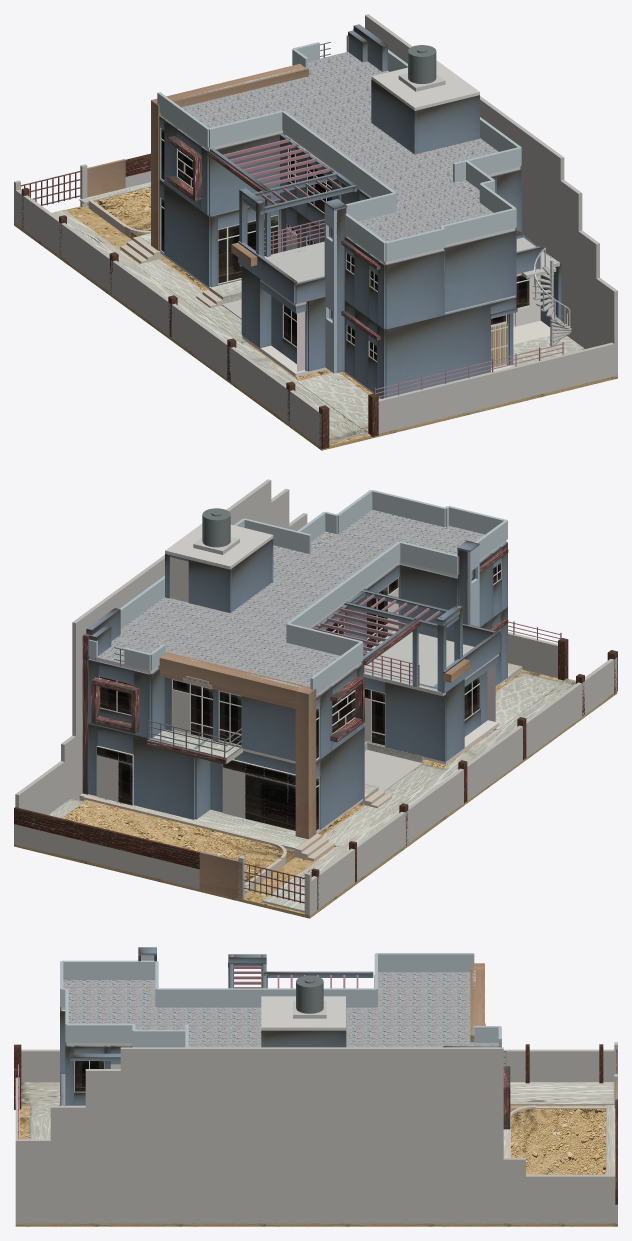
Rendered from rajsee-villa.glb.
3 renders of one model, top to bottom at view 1: azimuth 30°, elevation 25°; view 2: azimuth 150°, elevation 25°; view 3: azimuth 270°, elevation 25°, orthographic. The views are drawn at different scales.
Visible parts, largest first — view 1: Side compound wall, Neighbour boundary wall (×6), Rear solid exterior wall (×2), Rear compound wall, Roof slab 1, Rear upper bedroom face, Roof slab around openings - middle (×2), Paved side driveway, Dining side wall, Rooftop room back wall, Master wall toward court, Roof slab 2 (+35 smaller); view 2: Side compound wall, Front drawing wall (×3), Front garden soil, Roof slab 1, Neighbour boundary wall (×4), Bedroom court wall, Front unfinished wall base, Paved side driveway, Roof slab around openings - middle (×2), Front stone surround top, Front unfinished brickwork, Roof slab 2 (+48 smaller); view 3: Neighbour boundary wall (×19), Roof terrace parapet (approximate) (×13), Roof slab 1, Front garden soil, Side compound wall, Paved side driveway, Roof slab around openings - middle, Roof slab 4, Rooftop room roof, Roof slab 4 at rear return, Rooftop room side wall, Roof slab around openings - front (+11 smaller).
Boxes of the visible parts, x1=… form: Side compound wall: x1=15, y1=189, x2=321, y2=447; Neighbour boundary wall (×6): x1=507, y1=118, x2=617, y2=376; Rear solid exterior wall (×2): x1=385, y1=250, x2=490, y2=397; Rear compound wall: x1=378, y1=342, x2=617, y2=434; Roof slab 1: x1=161, y1=76, x2=356, y2=150; Rear upper bedroom face: x1=443, y1=230, x2=515, y2=312; Roof slab around openings - middle (×2): x1=328, y1=138, x2=520, y2=197; Paved side driveway: x1=52, y1=209, x2=368, y2=443; Dining side wall: x1=164, y1=184, x2=211, y2=286; Rooftop room back wall: x1=413, y1=95, x2=479, y2=154; Master wall toward court: x1=209, y1=134, x2=279, y2=215; Roof slab 2: x1=308, y1=52, x2=389, y2=111; Side compound wall: x1=311, y1=657, x2=617, y2=913; Front drawing wall (×3): x1=88, y1=723, x2=194, y2=819; Front garden soil: x1=62, y1=799, x2=294, y2=882; Roof slab 1: x1=173, y1=624, x2=361, y2=696; Neighbour boundary wall (×4): x1=61, y1=479, x2=289, y2=802; Bedroom court wall: x1=385, y1=676, x2=445, y2=761; Front unfinished wall base: x1=14, y1=824, x2=199, y2=888; Paved side driveway: x1=262, y1=678, x2=575, y2=912; Roof slab around openings - middle (×2): x1=261, y1=545, x2=384, y2=611; Front stone surround top: x1=158, y1=652, x2=316, y2=708; Front unfinished brickwork: x1=14, y1=807, x2=199, y2=869; Roof slab 2: x1=89, y1=608, x2=213, y2=673; Neighbour boundary wall (×19): x1=15, y1=1047, x2=615, y2=1224; Roof terrace parapet (approximate) (×13): x1=61, y1=953, x2=500, y2=1047; Roof slab 1: x1=376, y1=972, x2=470, y2=1042; Front garden soil: x1=510, y1=1108, x2=605, y2=1174; Side compound wall: x1=21, y1=1049, x2=614, y2=1082; Paved side driveway: x1=21, y1=1082, x2=614, y2=1105; Roof slab around openings - middle: x1=187, y1=1007, x2=261, y2=1047; Roof slab 4: x1=61, y1=980, x2=155, y2=1010; Rooftop room roof: x1=261, y1=996, x2=345, y2=1030; Roof slab 4 at rear return: x1=67, y1=1007, x2=156, y2=1045; Rooftop room side wall: x1=261, y1=1030, x2=345, y2=1047; Roof slab around openings - front: x1=346, y1=1007, x2=376, y2=1047.
Bounding box in the file's own units: 14.5 × 10.76 × 26.17.
34 materials, 8 textured.
